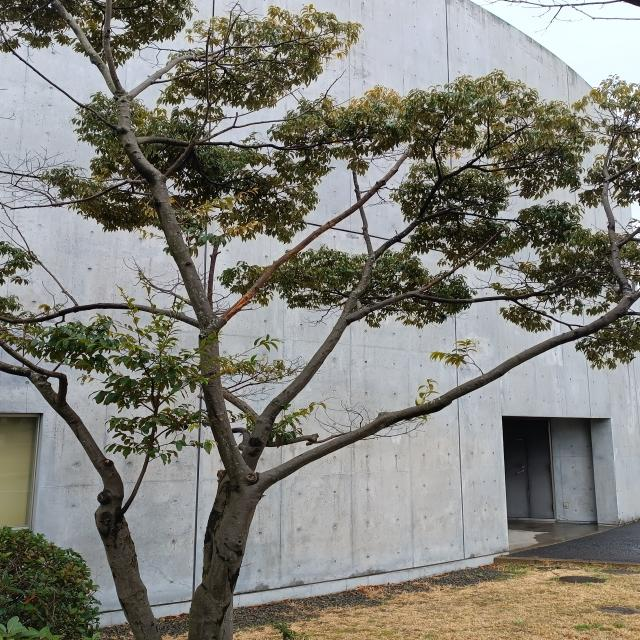Branch: (253, 185, 638, 498), (121, 122, 250, 472), (238, 319, 350, 470), (345, 291, 417, 324), (343, 260, 373, 314), (413, 294, 512, 303)
Twig: (222, 150, 409, 321), (372, 209, 450, 262), (433, 230, 502, 285), (359, 206, 373, 256), (352, 169, 361, 200)
